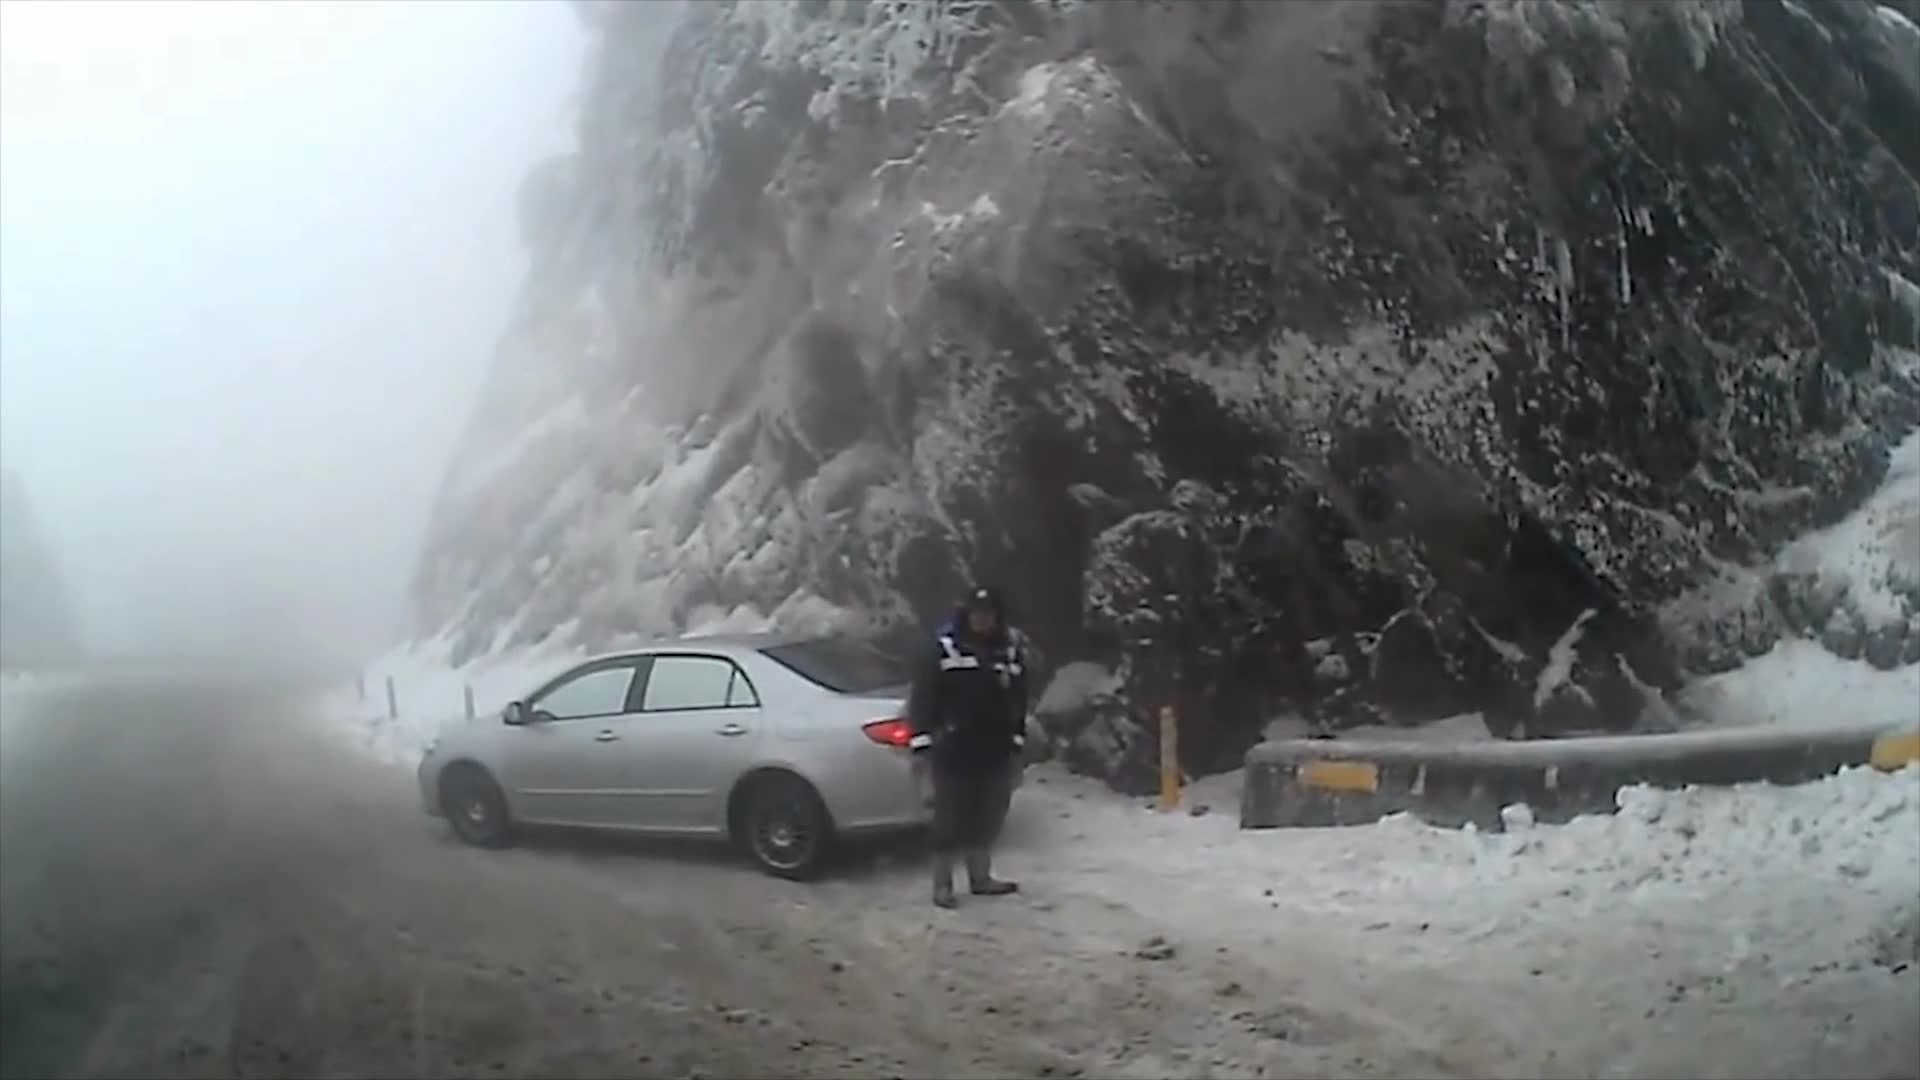pedestrian: (908, 581, 1029, 906)
vehicle: (415, 630, 1021, 883)
